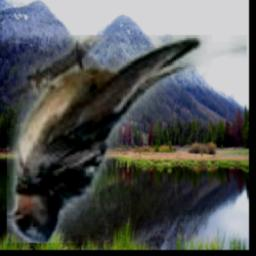Swallow: (7, 36, 247, 244)
